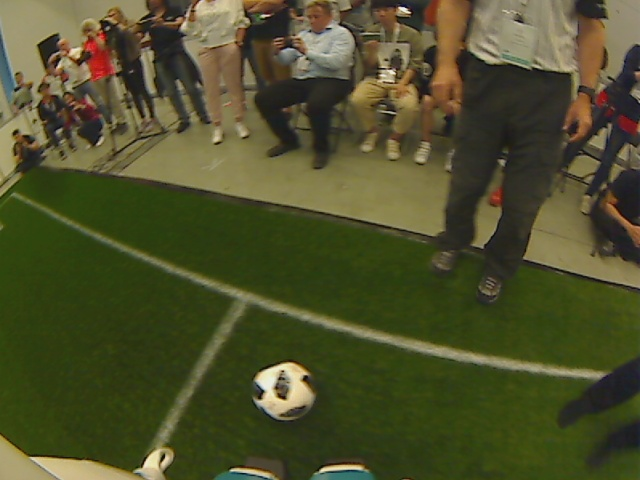ball: (250, 360, 317, 424)
